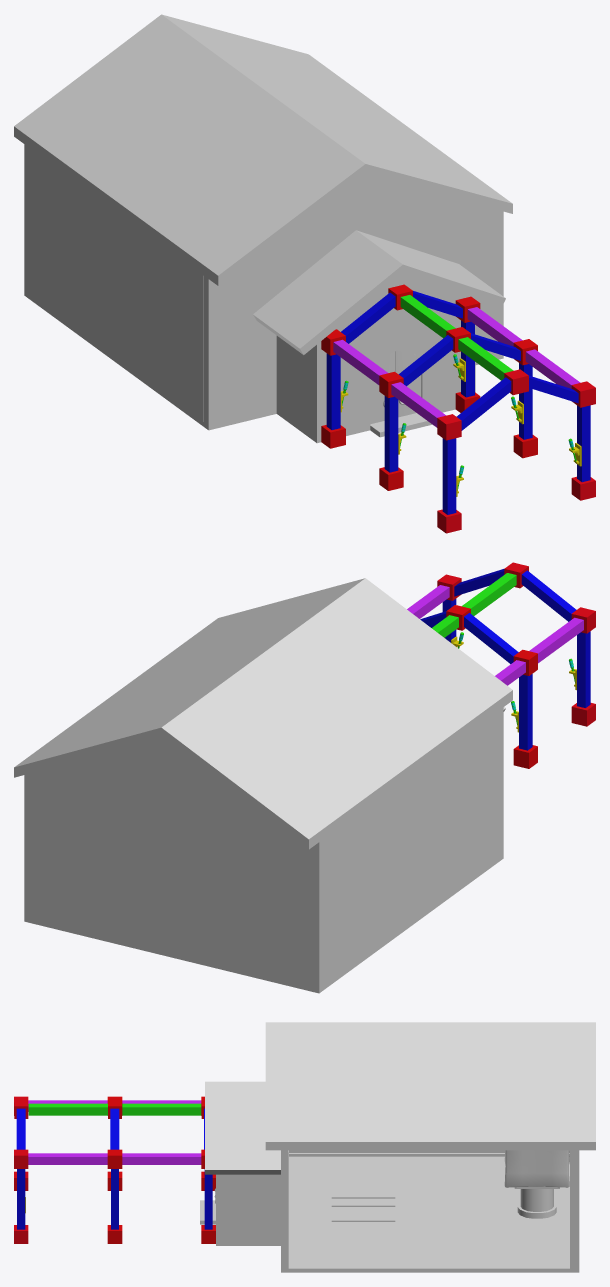
File: EntranceLvl1.fbx
The picture shows the model from 3 angles, top to bottom: view 1: azimuth 30°, elevation 25°; view 2: azimuth 150°, elevation 25°; view 3: azimuth 270°, elevation 25°; orthographic projection. The views are drawn at different scales.
Parts seen in each view (by area): view 1: Cube.007, Cube.018, Cube.019, Cube.020, Cube.021, Cube.003, Cube.006, Cube.001, Cube.002, Cube.004, Cube.005, Cube (+2 smaller); view 2: Cube.006, Cube.007, Cube.019, Cube.021, Cube.018, Cube.020, Cube.003, Cube.001, Cube.005, Cube.011; view 3: Cube.007, Cube.006, TrapDoor, SlimeSatue, Cube.001, Cube.003, Cube.005, Cube.004, Cube.022, Cube.002, Cube.010, Cube.011 (+3 smaller).
Part boxes in pixels (left/top/right/bottom): Cube.007: left=30, top=26, right=512, bottom=443; Cube.018: left=160, top=244, right=203, bottom=421; Cube.019: left=117, top=212, right=160, bottom=389; Cube.020: left=73, top=180, right=116, bottom=357; Cube.021: left=30, top=148, right=73, bottom=325; Cube.003: left=437, top=369, right=595, bottom=533; Cube.006: left=14, top=14, right=324, bottom=299; Cube.001: left=379, top=327, right=537, bottom=490; Cube.002: left=321, top=284, right=480, bottom=448; Cube.004: left=333, top=307, right=522, bottom=384; Cube.005: left=391, top=349, right=580, bottom=427; Cube: left=370, top=350, right=421, bottom=424; Cube.006: left=14, top=716, right=324, bottom=993; Cube.007: left=30, top=578, right=512, bottom=988; Cube.019: left=411, top=743, right=455, bottom=920; Cube.021: left=325, top=806, right=368, bottom=983; Cube.018: left=455, top=711, right=498, bottom=888; Cube.020: left=368, top=775, right=411, bottom=952; Cube.003: left=437, top=562, right=595, bottom=726; Cube.001: left=420, top=605, right=537, bottom=768; Cube.005: left=407, top=585, right=583, bottom=663; Cube.011: left=462, top=573, right=516, bottom=615; Cube.007: left=200, top=1022, right=569, bottom=1272; Cube.006: left=570, top=1022, right=595, bottom=1272; TrapDoor: left=324, top=1194, right=402, bottom=1226; SlimeSatue: left=504, top=1150, right=569, bottom=1187; Cube.001: left=107, top=1096, right=122, bottom=1243; Cube.003: left=14, top=1096, right=28, bottom=1243; Cube.005: left=28, top=1100, right=107, bottom=1164; Cube.004: left=122, top=1100, right=201, bottom=1164; Cube.022: left=514, top=1186, right=559, bottom=1218; Cube.002: left=201, top=1096, right=215, bottom=1243; Cube.010: left=122, top=1103, right=201, bottom=1115; Cube.011: left=28, top=1103, right=107, bottom=1115.
Bounding box in the file's own units: 3848 × 2963 × 8132.
